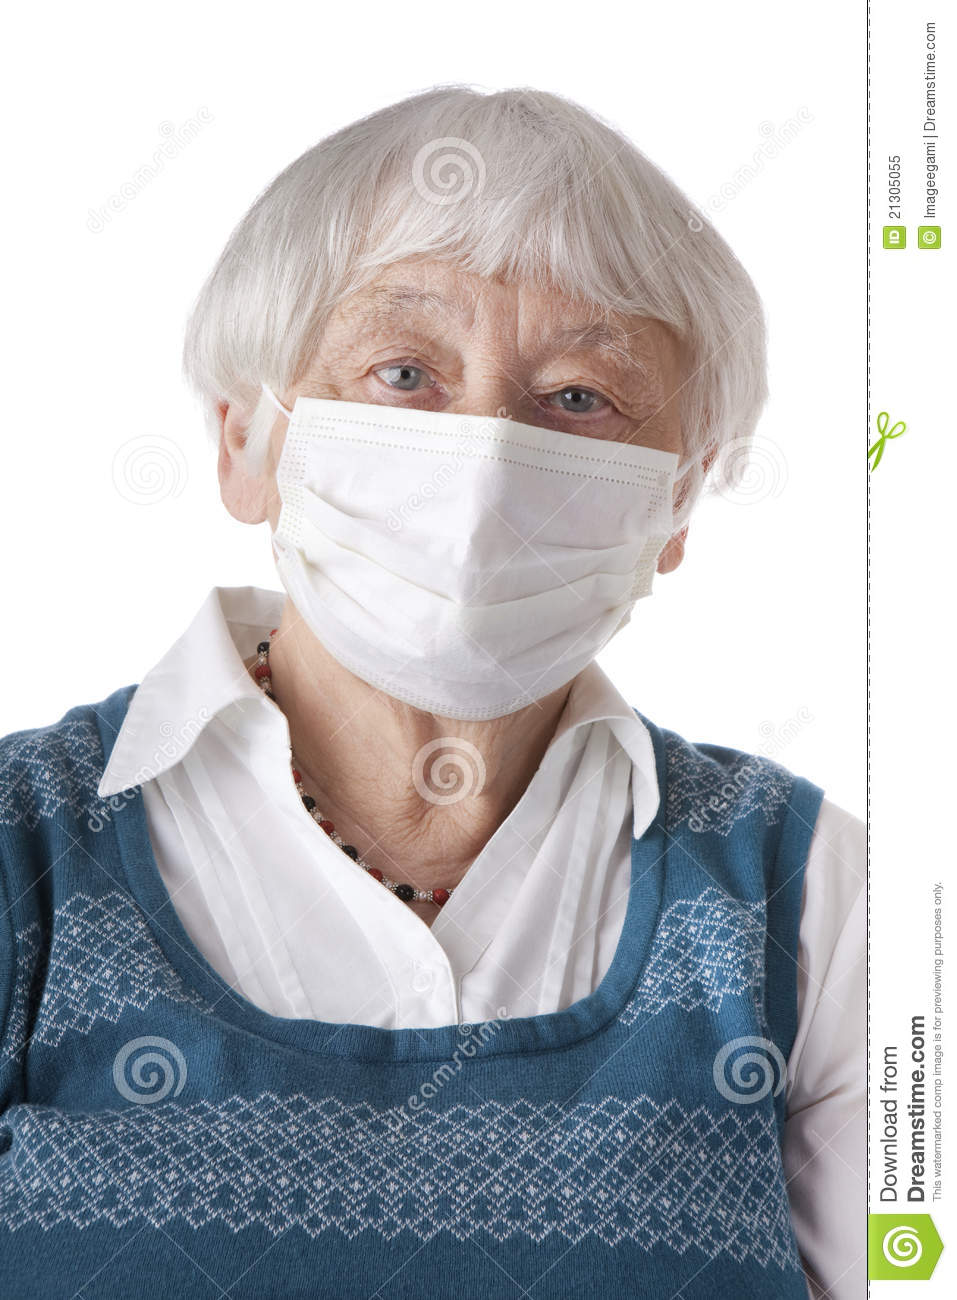mask: (264, 413, 676, 709)
